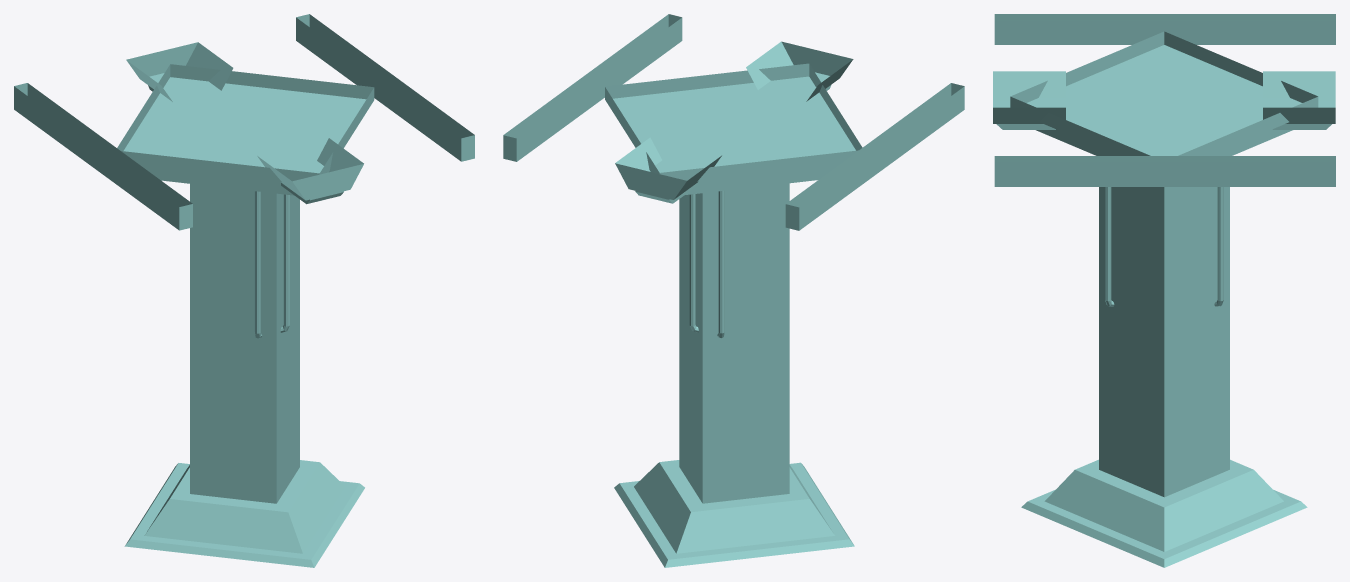
Rendered from TS2_Collider_ZhongJianZhu_1.FBX.
3 renders of one model, left to right at view 1: azimuth 30°, elevation 25°; view 2: azimuth 150°, elevation 25°; view 3: azimuth 270°, elevation 25°, orthographic. The views are drawn at different scales.
Visible parts, largest first — view 1: Collider_ZhongJianZhu_1; view 2: Collider_ZhongJianZhu_1; view 3: Collider_ZhongJianZhu_1.
Part boxes in pixels (left/top/right/bottom): Collider_ZhongJianZhu_1: left=14, top=14, right=474, bottom=567; Collider_ZhongJianZhu_1: left=503, top=14, right=964, bottom=567; Collider_ZhongJianZhu_1: left=993, top=14, right=1335, bottom=567.
Size of the model in its own units: 4.78 by 6.28 by 4.66.
